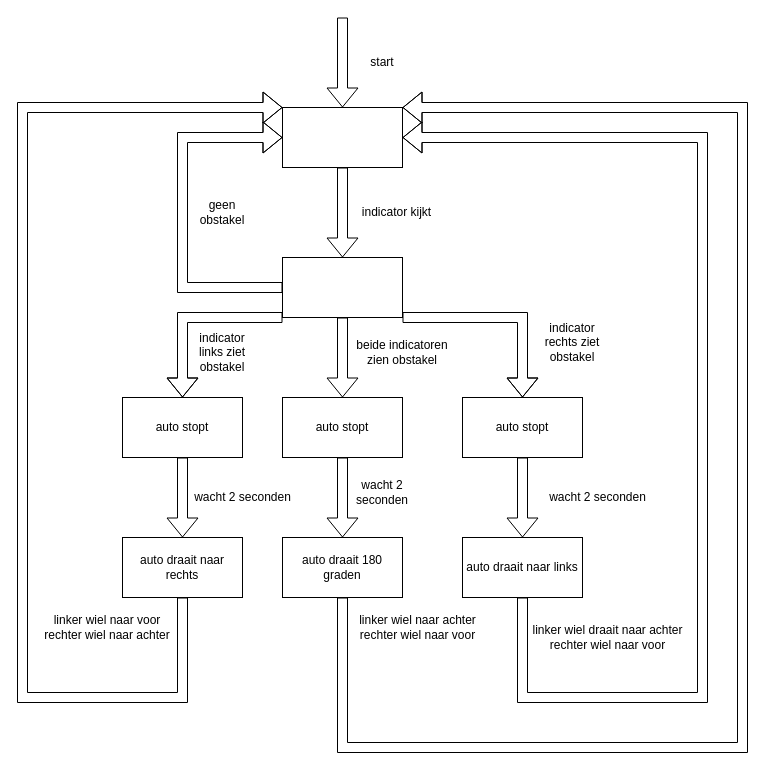
Image size: 765x770. Some labels were removed from this diagram. Here are the shapes that lost their labels. From the top down, the centre of each, then its label:
the point at 342,137: rijden
the point at 342,287: indicator detecteert
